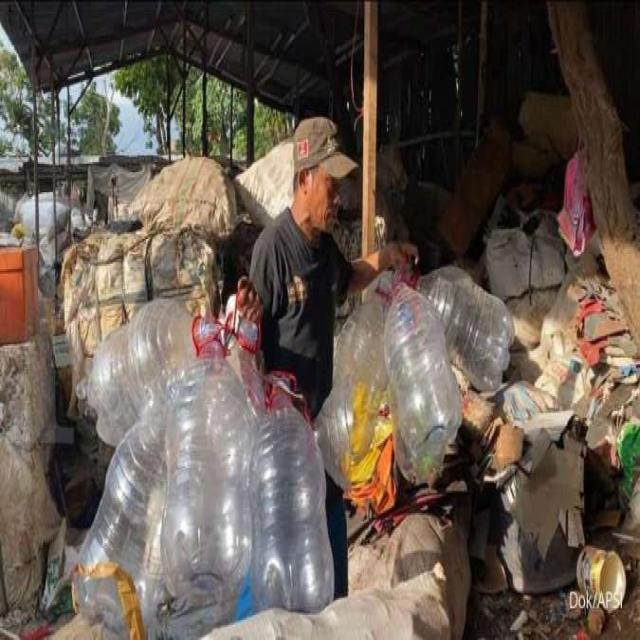Galon: (84, 299, 334, 616), (333, 257, 522, 456)
